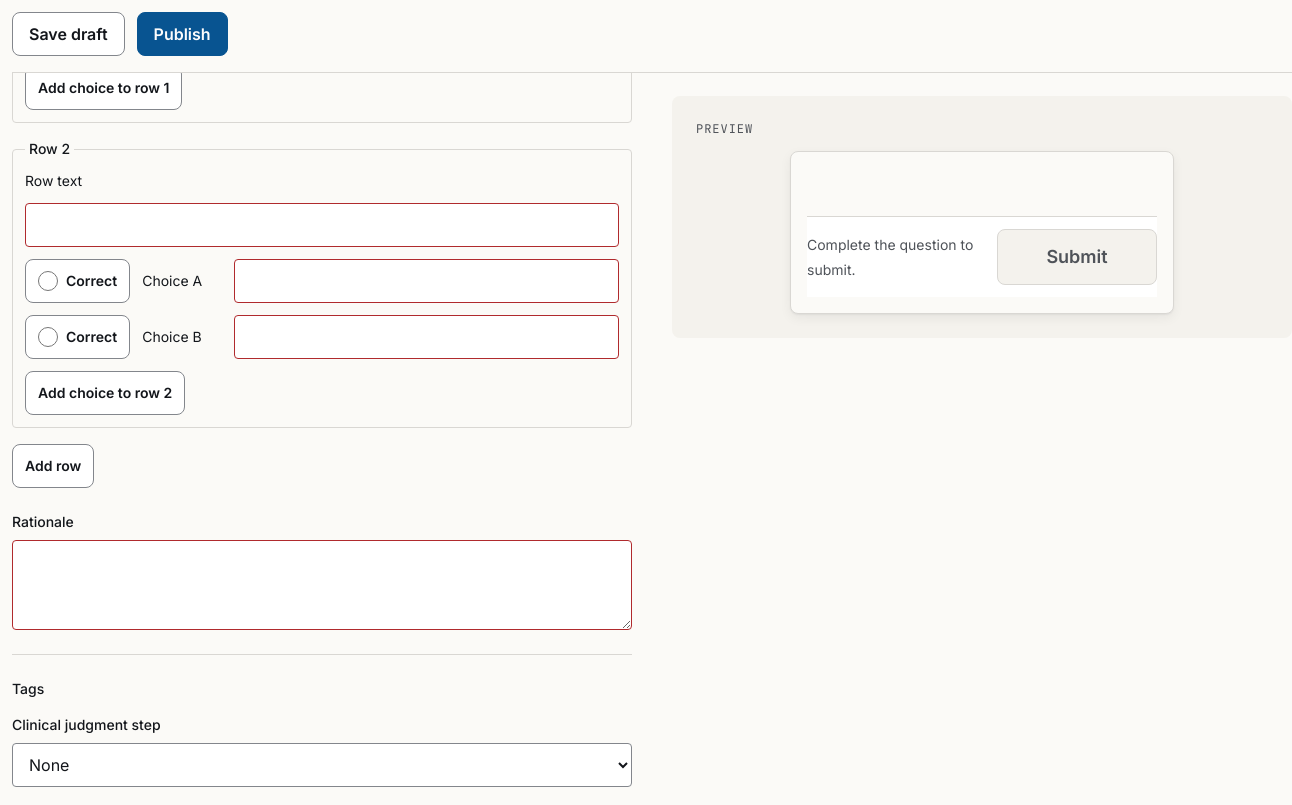
Scenario: DropdownTableEditor › adds a row, and a choice within a row
(page scrolled)
Step 1. Click the button "Add row" → [53, 466], box [12,444,94,488]
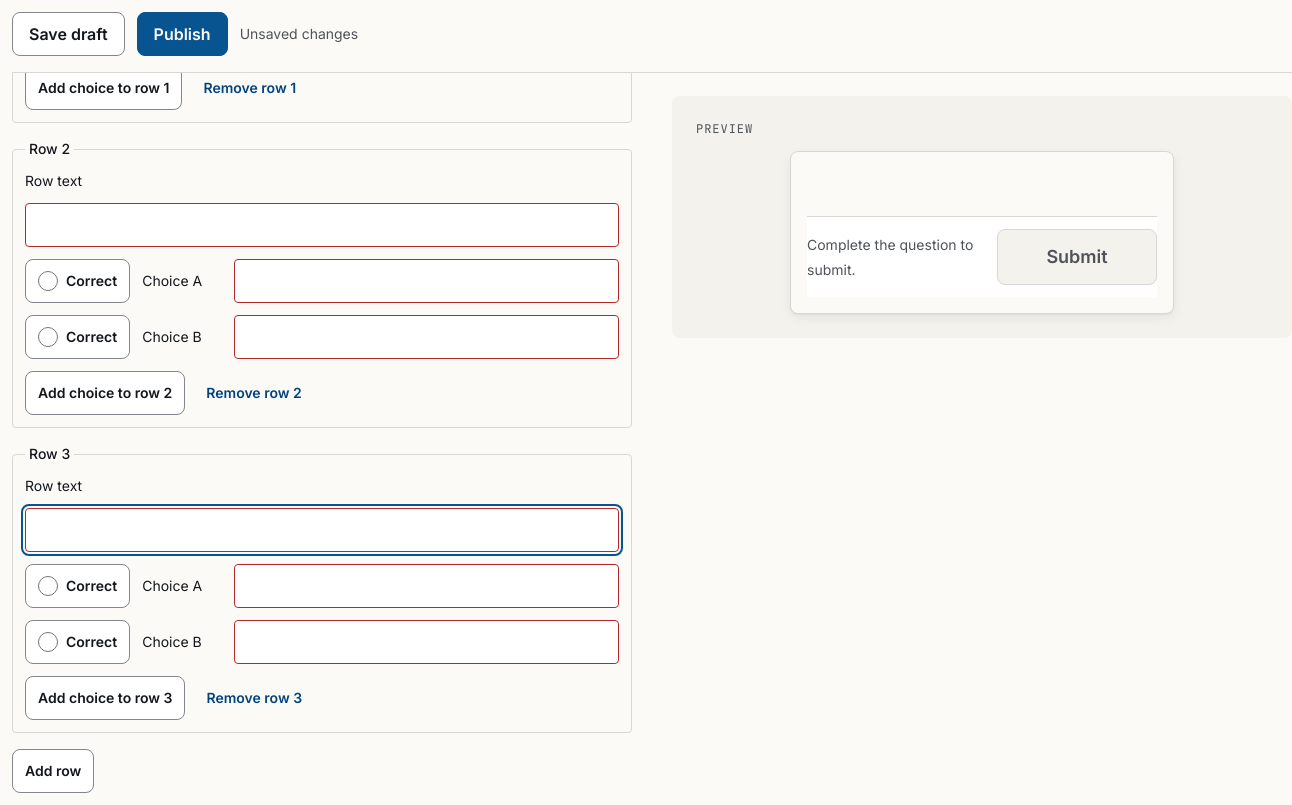
expect the element "Row 3" is shown: met, box [12,444,632,733]
Step 2. Click the button "Add choice to row 1" → [104, 88], box [25,66,182,110]
(page scrolled)
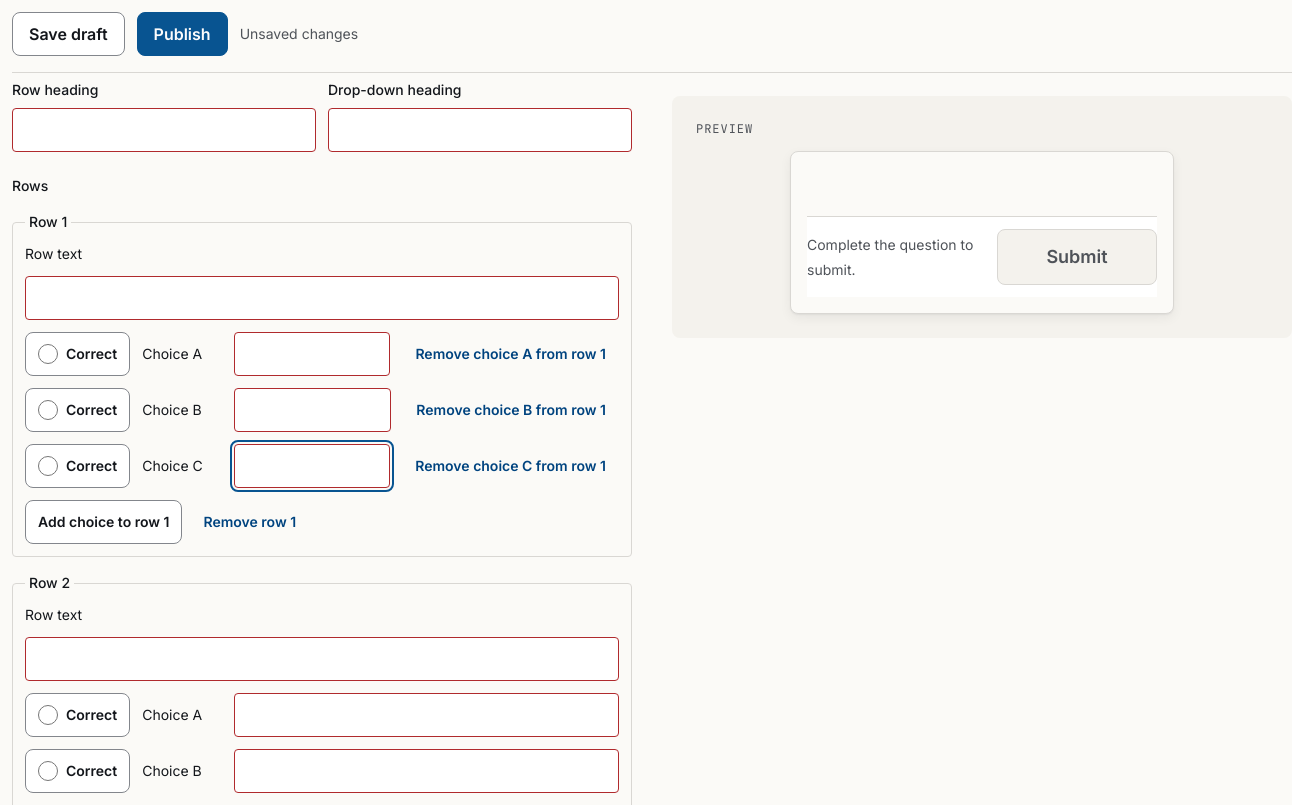
expect the field labelled "Choice C" is shown: met, box [234,444,390,488]
